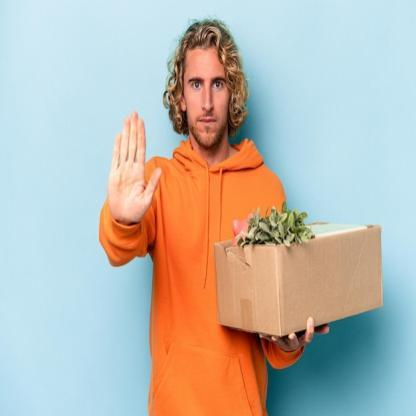stop: (110, 108, 162, 227)
